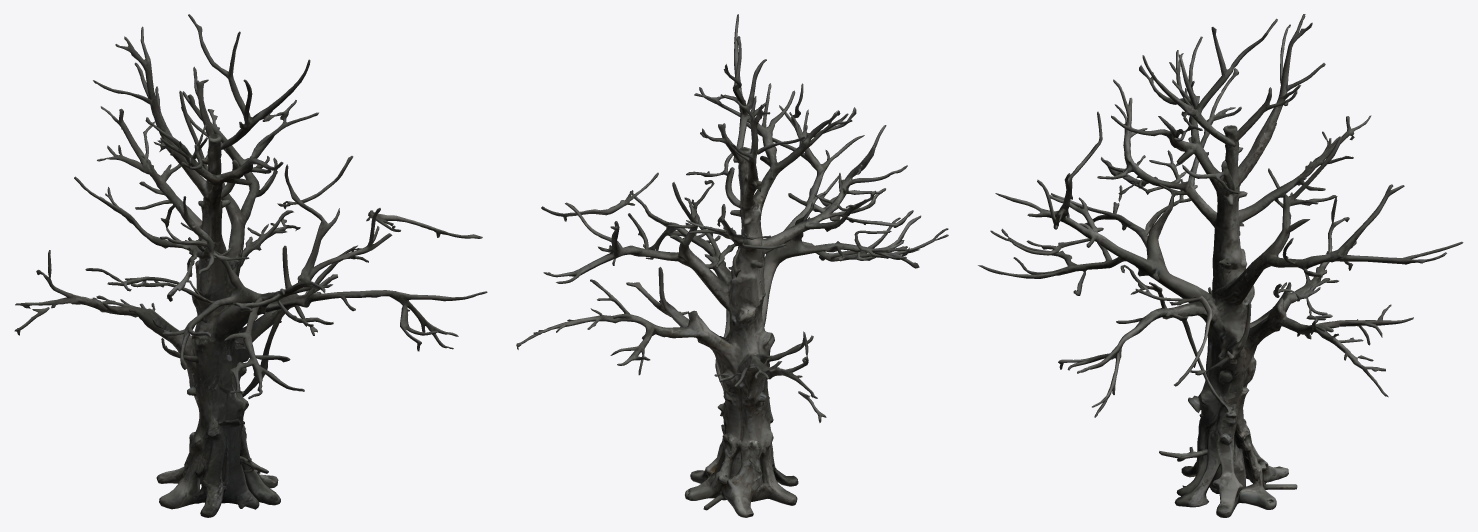
The model's file is nature-tree-dead.glb.
The picture shows the model from 3 angles, left to right: view 1: azimuth 30°, elevation 25°; view 2: azimuth 150°, elevation 25°; view 3: azimuth 270°, elevation 25°; orthographic projection. The views are drawn at different scales.
Visible parts, largest first — view 1: tripo_node_6ad3ad57-55e7-496d-880c-99ddd92b6a4e; view 2: tripo_node_6ad3ad57-55e7-496d-880c-99ddd92b6a4e; view 3: tripo_node_6ad3ad57-55e7-496d-880c-99ddd92b6a4e.
Part boxes in pixels (x1=…): tripo_node_6ad3ad57-55e7-496d-880c-99ddd92b6a4e: x1=14, y1=14, x2=487, y2=517; tripo_node_6ad3ad57-55e7-496d-880c-99ddd92b6a4e: x1=516, y1=14, x2=948, y2=517; tripo_node_6ad3ad57-55e7-496d-880c-99ddd92b6a4e: x1=978, y1=14, x2=1463, y2=517.
Size of the model in its own units: 6.11 by 7 by 6.55.
Materials: 1 (1 with a texture image).
